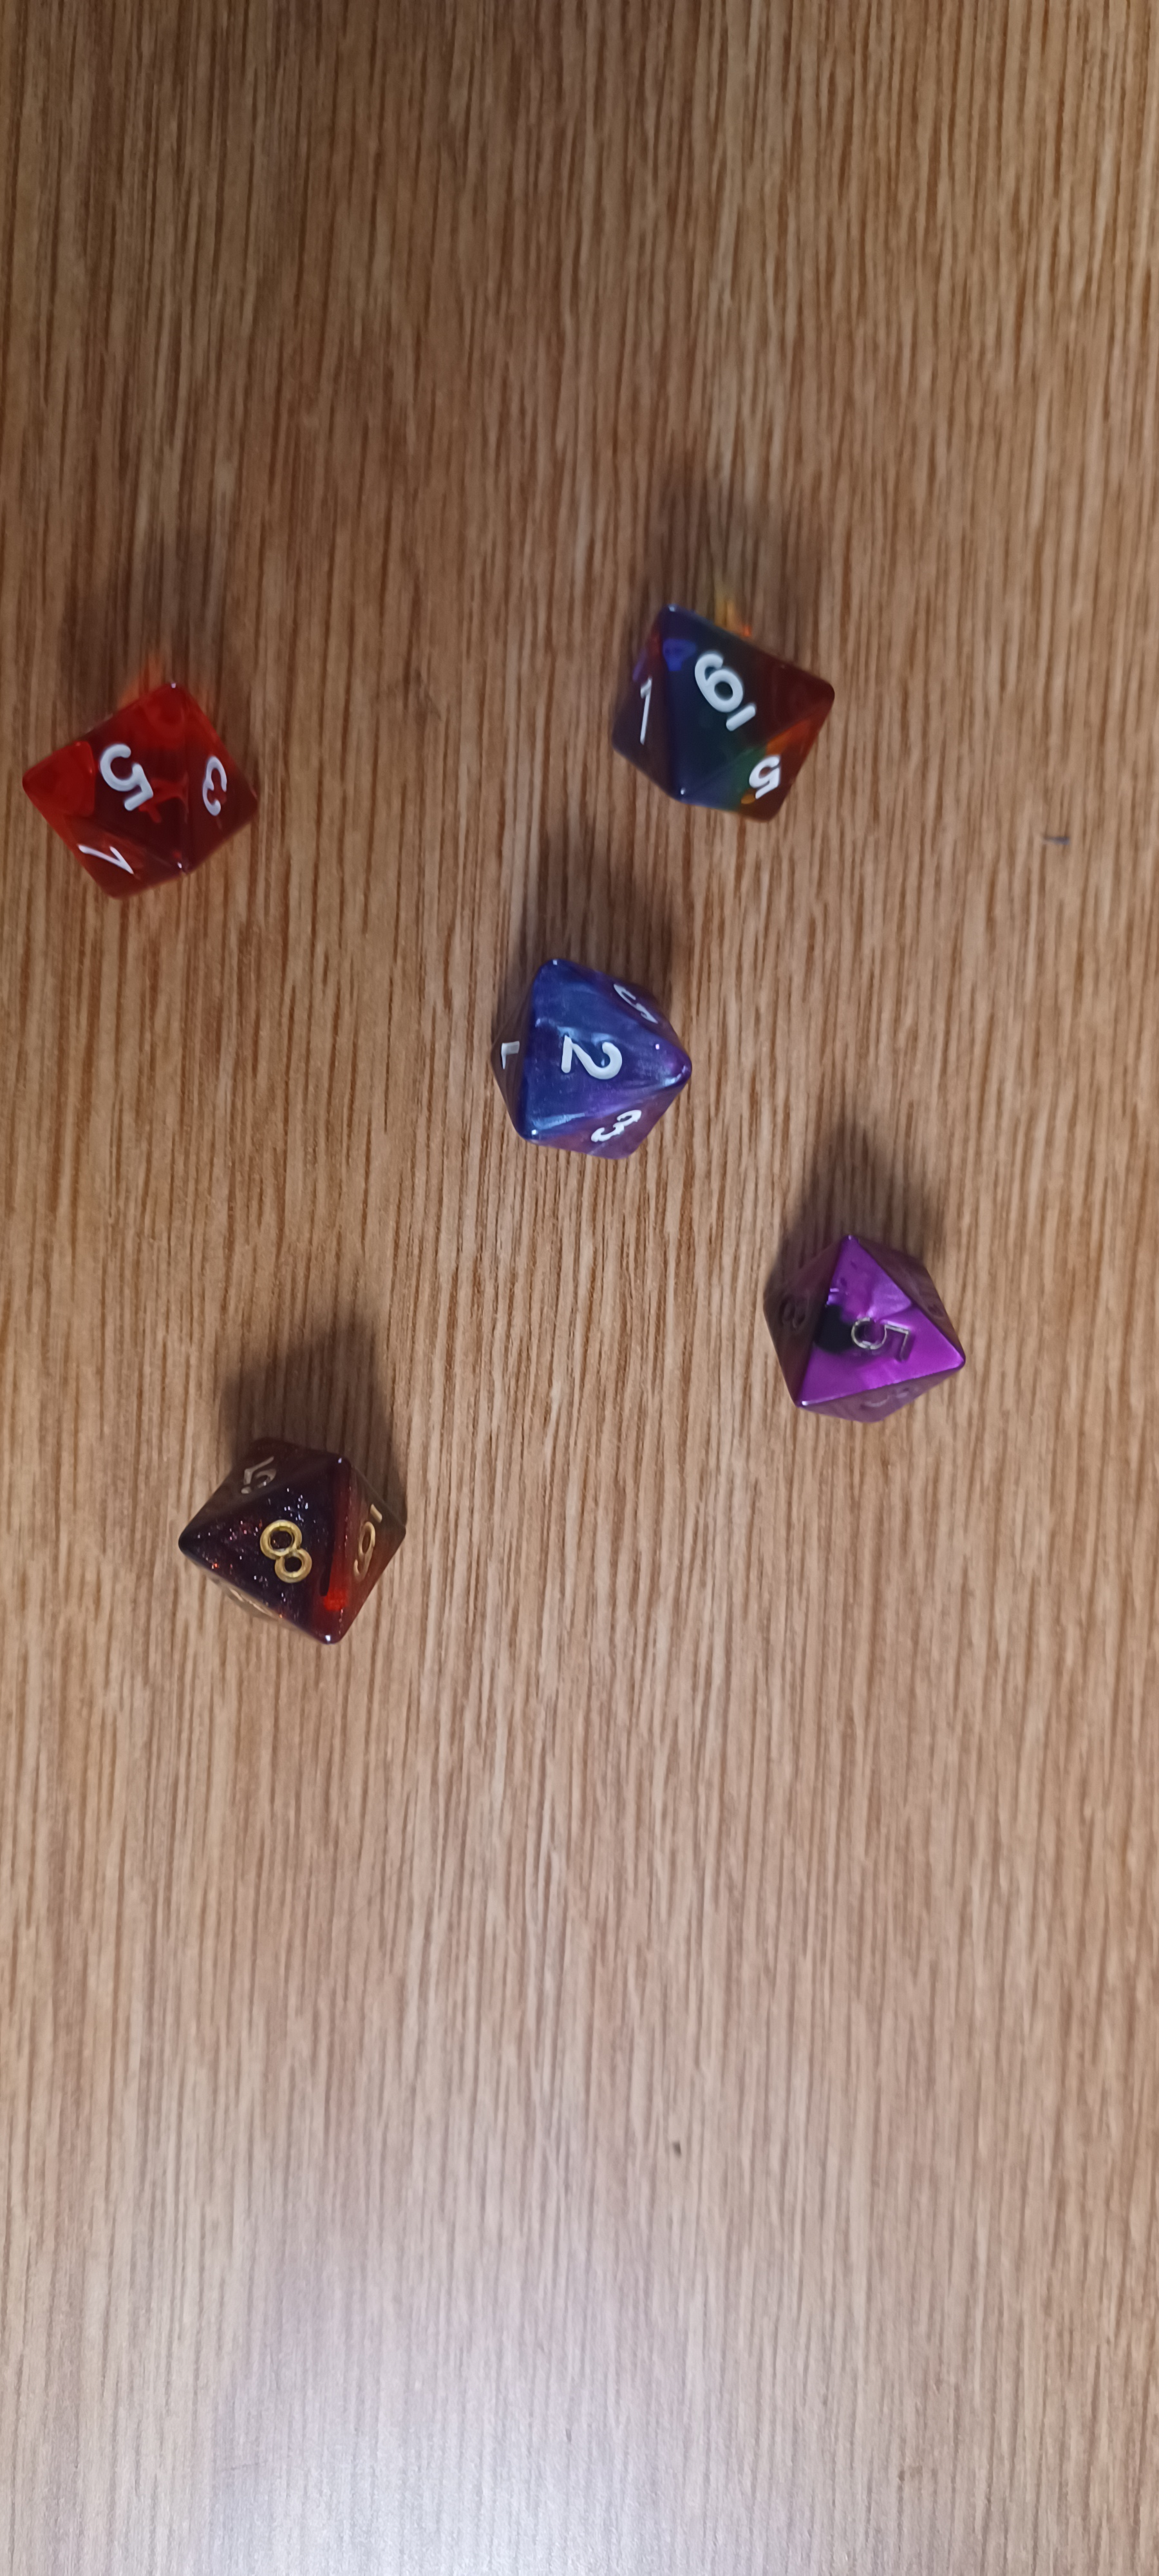eight: (149, 1401, 479, 1690)
five: (18, 652, 292, 927), (752, 1204, 998, 1452)
six: (566, 570, 896, 856)
two: (440, 915, 744, 1193)
